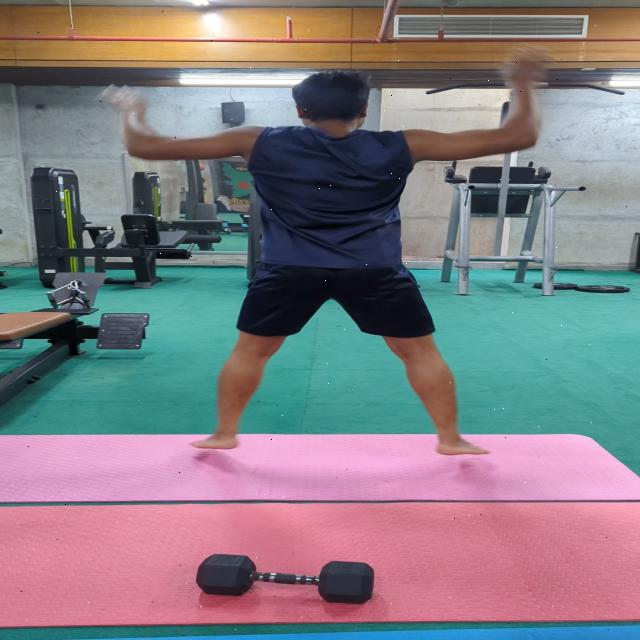Normal_JumpingJacks: (87, 47, 591, 471)
